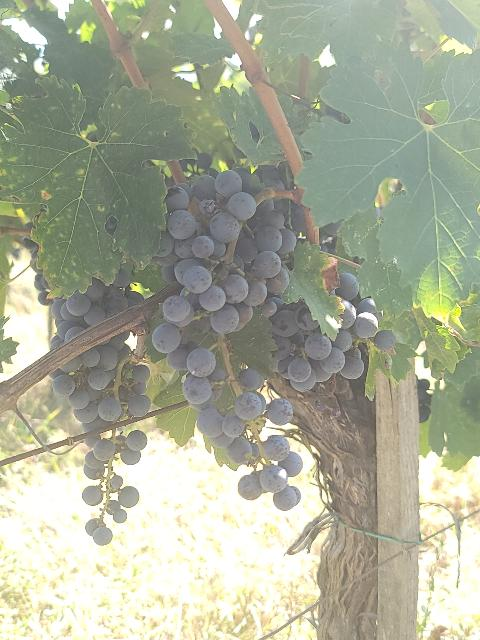grapes: (152, 322, 301, 510), (161, 170, 298, 335), (50, 331, 151, 545), (271, 272, 396, 391), (50, 272, 144, 350)
